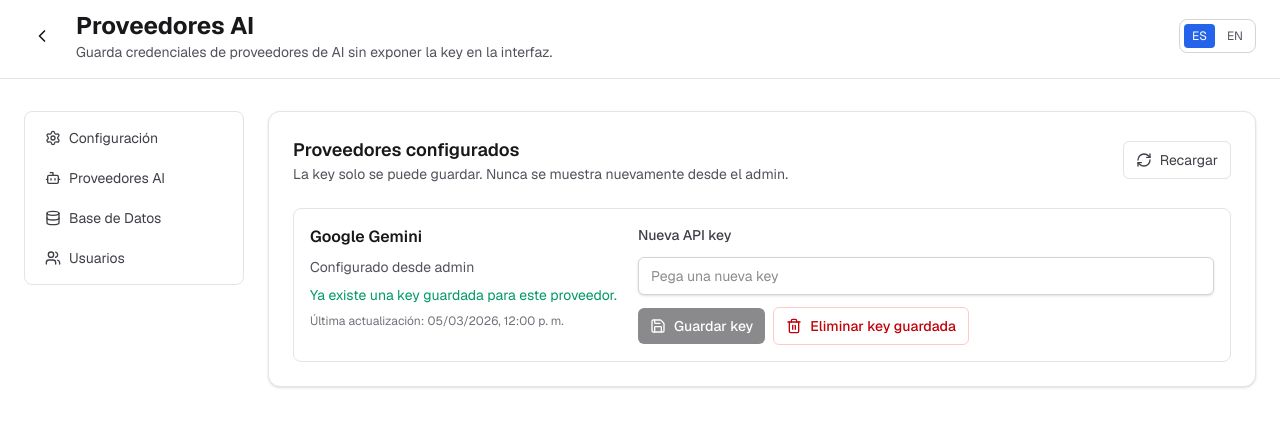
Scenario: AdminAiProvidersPage › saves a new provider key without revealing it again
The width and height of the screenshot is (1280, 441).
In the password field with test id "provider-key-input-gemini": (926,276) [638, 257, 1214, 295], type "super-secret-gemini-key"
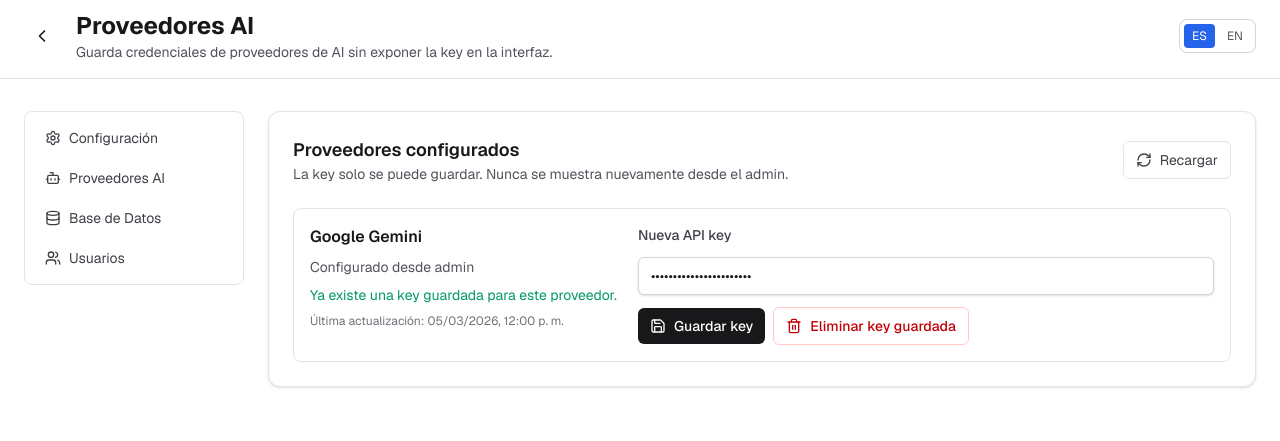
Click the button with test id "save-provider-gemini": (702,326) [638, 308, 765, 344]
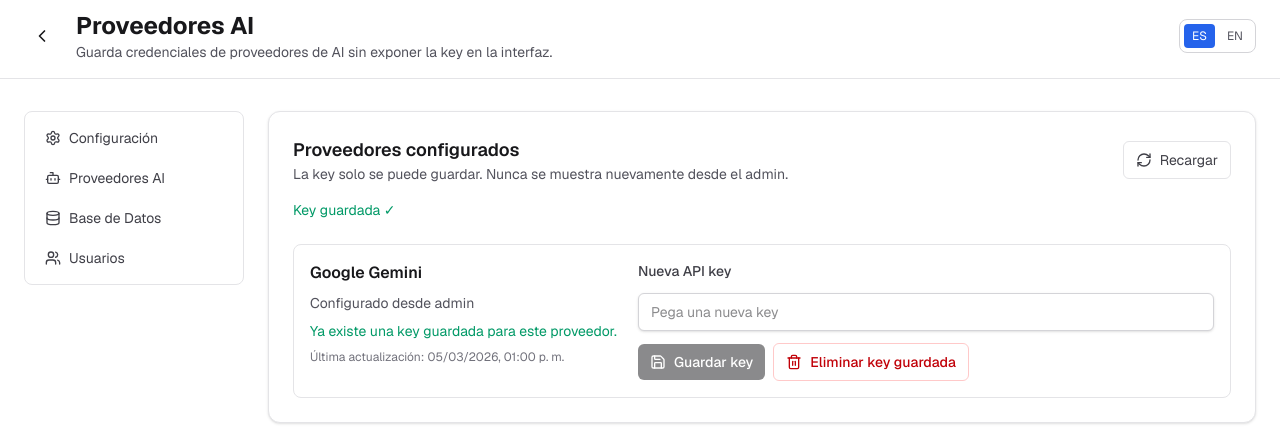
Now the text "Key guardada ✓" is shown, box [293, 201, 396, 219]
Now the password field with test id "provider-key-input-gemini" is empty, box [638, 293, 1214, 331]
